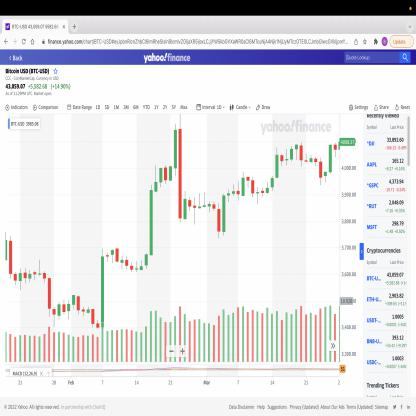Bullish: 3 White Soldiers: (149, 162, 163, 259)
Bullish: Engulfing: (217, 191, 226, 243)
